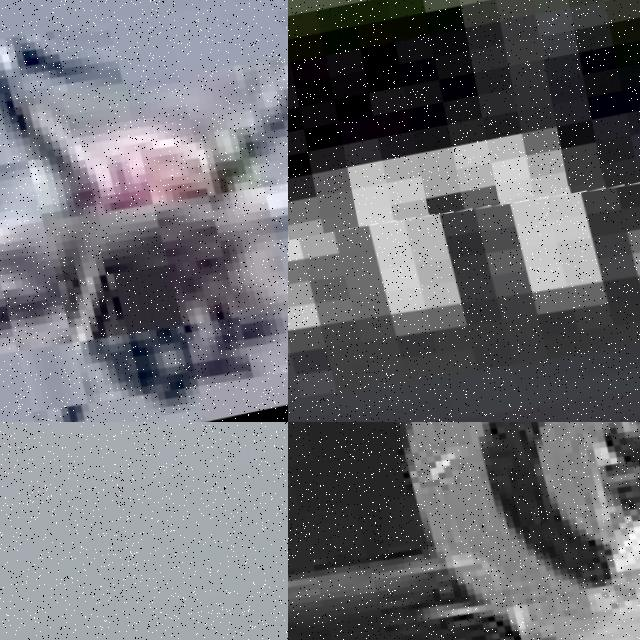drone: (0, 0, 288, 422), (288, 152, 640, 422), (288, 422, 640, 640)
